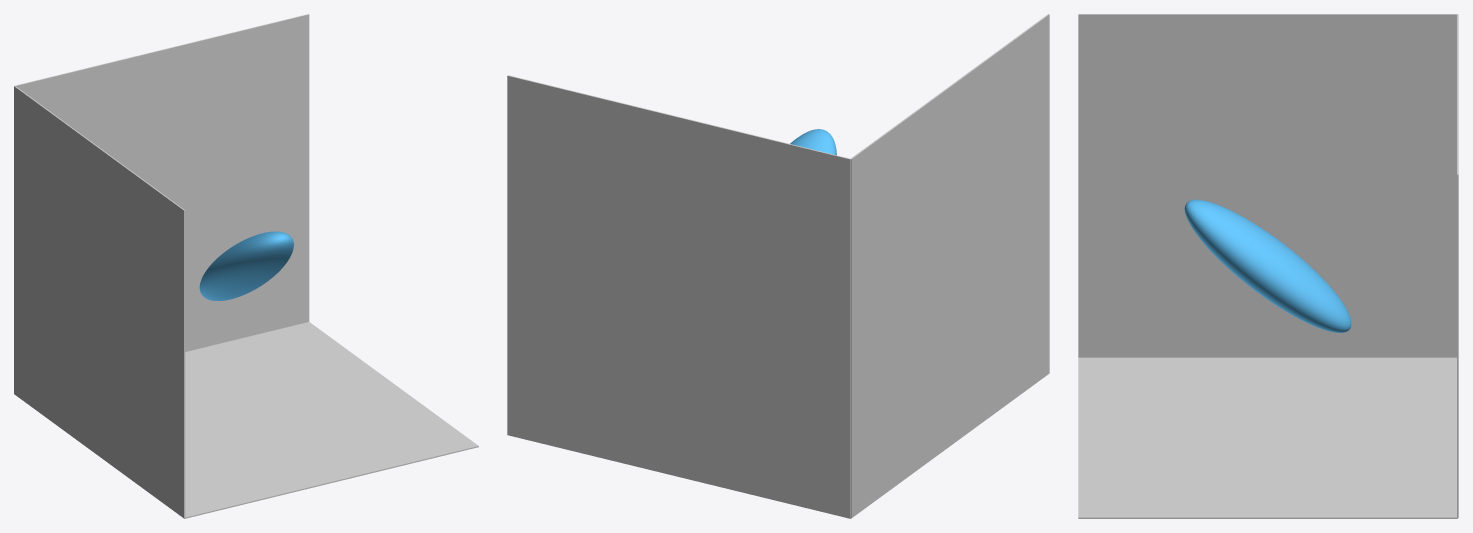
Rendered from fig9_17.gltf.
3 views of the same model, side by side, from view 1: azimuth 30°, elevation 25°; view 2: azimuth 150°, elevation 25°; view 3: azimuth 270°, elevation 25° (orthographic). The views are drawn at different scales.
Parts seen in each view (by area): view 1: Renderer Node; view 2: Renderer Node; view 3: Renderer Node.
Part boxes in pixels (bbox=[...]): Renderer Node: bbox=[14, 14, 478, 518]; Renderer Node: bbox=[507, 14, 1049, 518]; Renderer Node: bbox=[1078, 14, 1458, 518].
Bounding box in the file's own units: 5.01 × 5.01 × 5.01.
